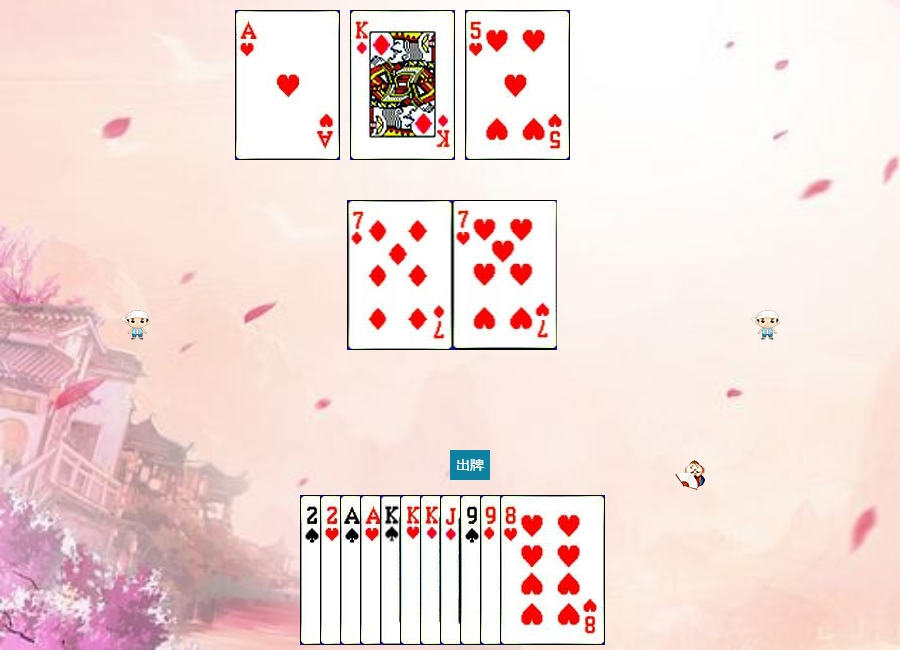11~1: (440, 495, 545, 645)
13~1: (350, 10, 455, 160), (420, 495, 525, 645)
13~3: (400, 495, 505, 645)
13~4: (380, 495, 485, 645)
14~3: (235, 10, 340, 160), (360, 495, 465, 645)
14~4: (340, 495, 445, 645)
15~3: (320, 495, 425, 645)
15~4: (300, 495, 405, 645)
5~3: (465, 10, 570, 160)
7~1: (348, 200, 453, 350)
7~3: (453, 200, 558, 350)
8~3: (500, 495, 605, 645)
9~1: (480, 495, 585, 645)
9~4: (460, 495, 565, 645)
